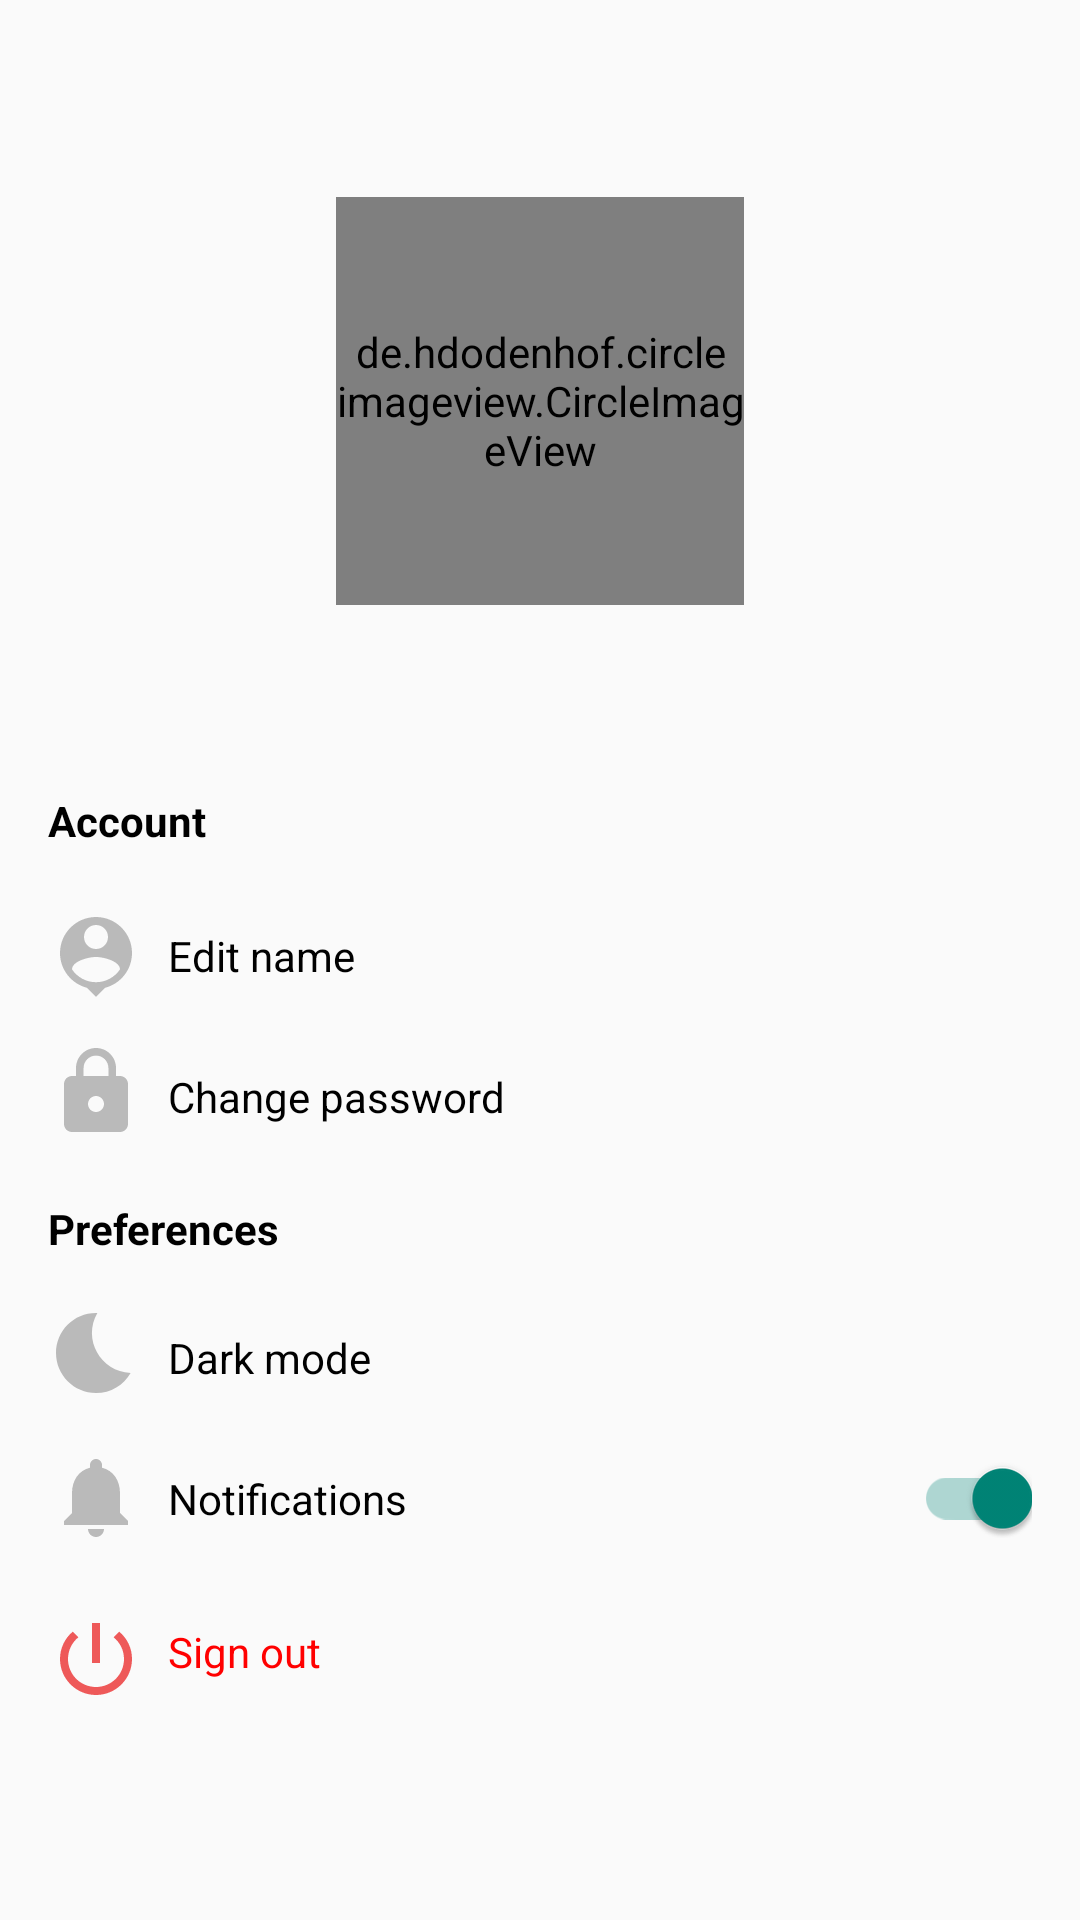

Icon click points for this 1080x1920 phone screenshot, format (x,y):
person: (96,956)
